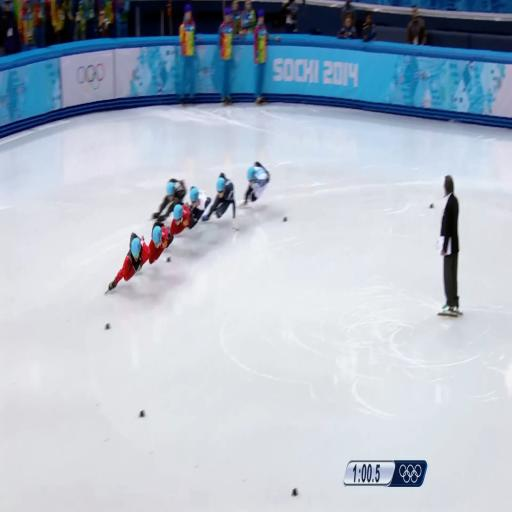Skater: (108, 233, 149, 291), (202, 174, 237, 229), (152, 179, 186, 222), (242, 162, 270, 205), (149, 223, 173, 264), (170, 205, 196, 236), (190, 187, 211, 221)
